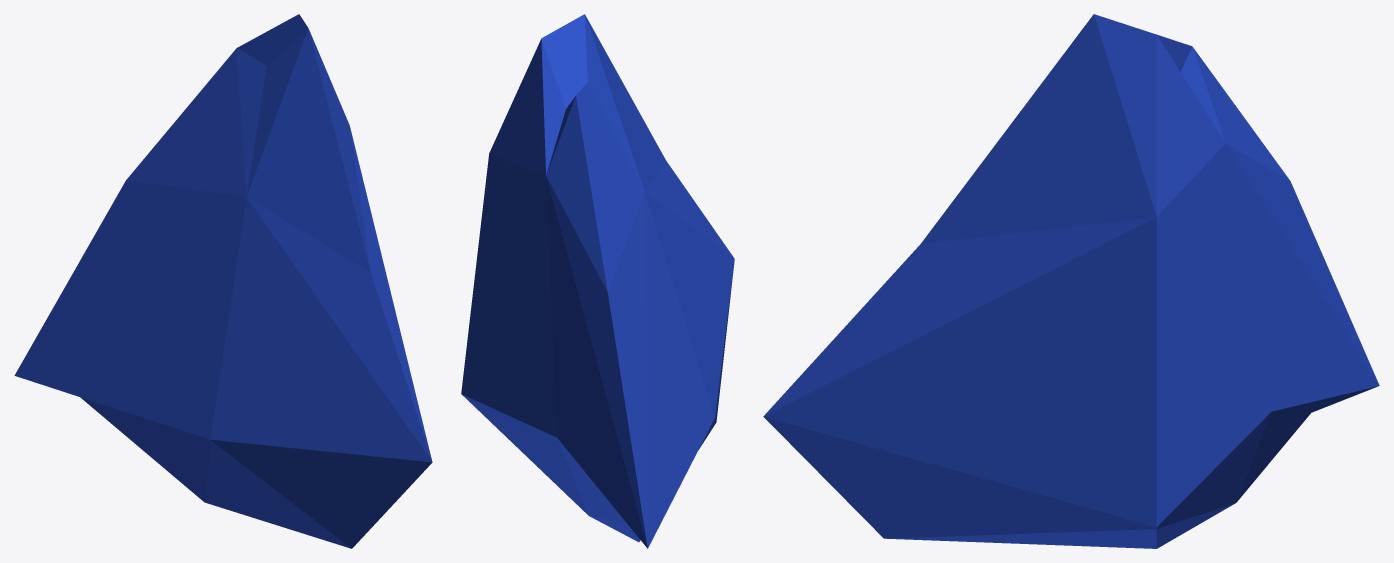
File: SM_Sapphire_Chipped.fbx
3 views of the same model, side by side, from view 1: azimuth 30°, elevation 25°; view 2: azimuth 150°, elevation 25°; view 3: azimuth 270°, elevation 25° (orthographic). The views are drawn at different scales.
Parts seen in each view (by area): view 1: SM_Sapphire_Chipped; view 2: SM_Sapphire_Chipped; view 3: SM_Sapphire_Chipped.
Boxes of the visible parts, box(x1,y1,x2,y2) form: SM_Sapphire_Chipped: box(14, 14, 432, 548); SM_Sapphire_Chipped: box(461, 14, 734, 548); SM_Sapphire_Chipped: box(763, 14, 1379, 548).
Bounding box in the file's own units: 10.05 × 16.09 × 16.76.
